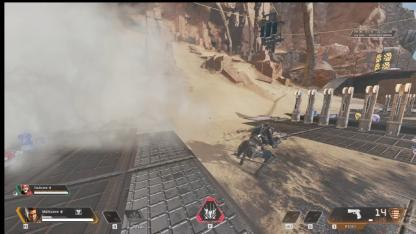Target: (239, 121, 277, 173)
